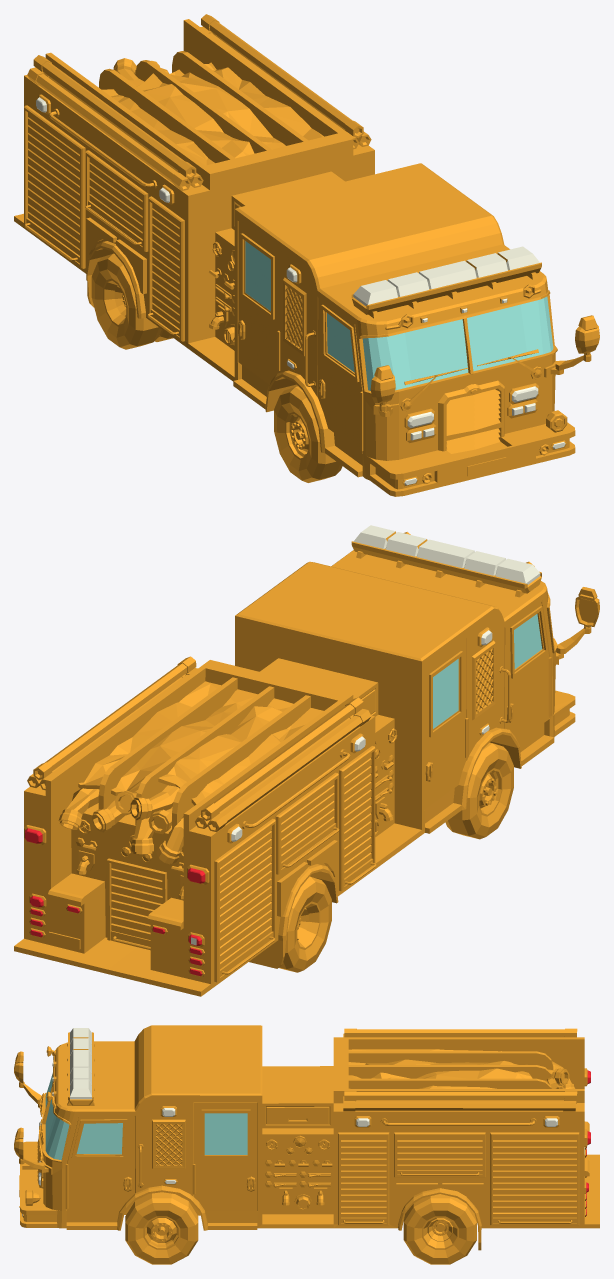
Rendered from SM_Car_Firetruck_Modern.fbx.
The picture shows the model from 3 angles, top to bottom: view 1: azimuth 30°, elevation 25°; view 2: azimuth 150°, elevation 25°; view 3: azimuth 270°, elevation 25°; orthographic projection. The views are drawn at different scales.
Visible parts, largest first — view 1: firetruck-modern-base, firetruck-modern-door-rba, firetruck-modern-door-rbr, firetruck-modern-wheel-rba, firetruck-modern-wheel-rfr; view 2: firetruck-modern-base, firetruck-modern-door-rba, firetruck-modern-door-rbr, firetruck-modern-wheel-rfr, firetruck-modern-wheel-rba; view 3: firetruck-modern-base, firetruck-modern-door-lba, firetruck-modern-door-lfr, firetruck-modern-wheel-lfr, firetruck-modern-wheel-lba.
Part boxes in pixels (x1,y1,x2,y2): firetruck-modern-base: [14, 14, 599, 496]; firetruck-modern-door-rba: [238, 221, 279, 384]; firetruck-modern-door-rbr: [318, 298, 362, 453]; firetruck-modern-wheel-rba: [91, 253, 173, 349]; firetruck-modern-wheel-rfr: [274, 386, 342, 482]; firetruck-modern-base: [14, 525, 599, 996]; firetruck-modern-door-rba: [424, 638, 466, 809]; firetruck-modern-door-rbr: [504, 601, 549, 741]; firetruck-modern-wheel-rfr: [445, 742, 513, 839]; firetruck-modern-wheel-rba: [279, 876, 331, 972]; firetruck-modern-base: [14, 1025, 599, 1250]; firetruck-modern-door-lba: [193, 1102, 257, 1210]; firetruck-modern-door-lfr: [67, 1116, 134, 1210]; firetruck-modern-wheel-lfr: [125, 1192, 198, 1264]; firetruck-modern-wheel-lba: [403, 1194, 476, 1264].
Size of the model in its own units: 3.32 by 3.13 by 9.68.
